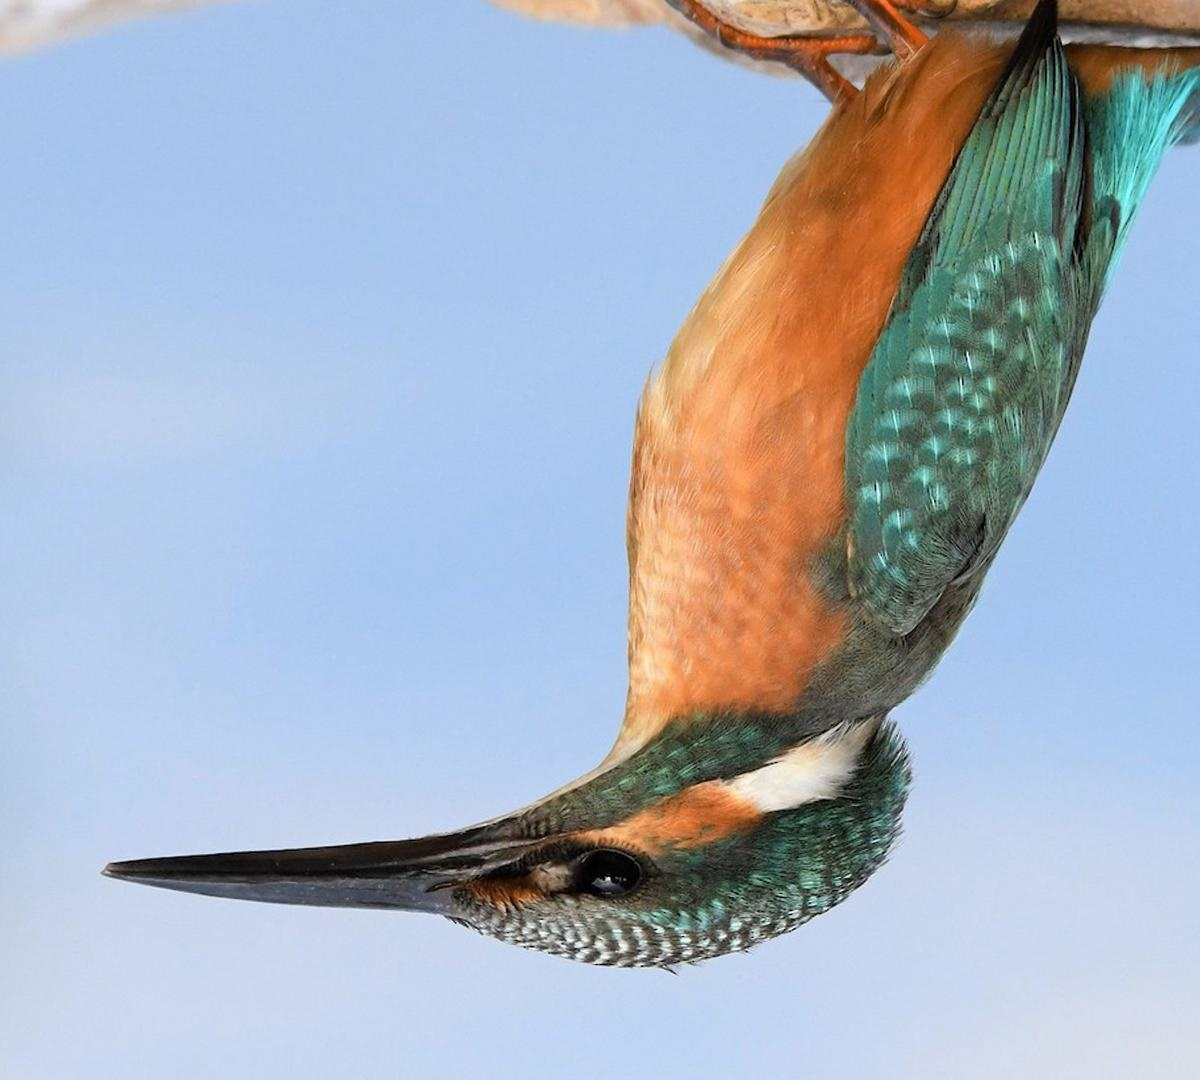kingfisher: (89, 17, 1185, 982)
